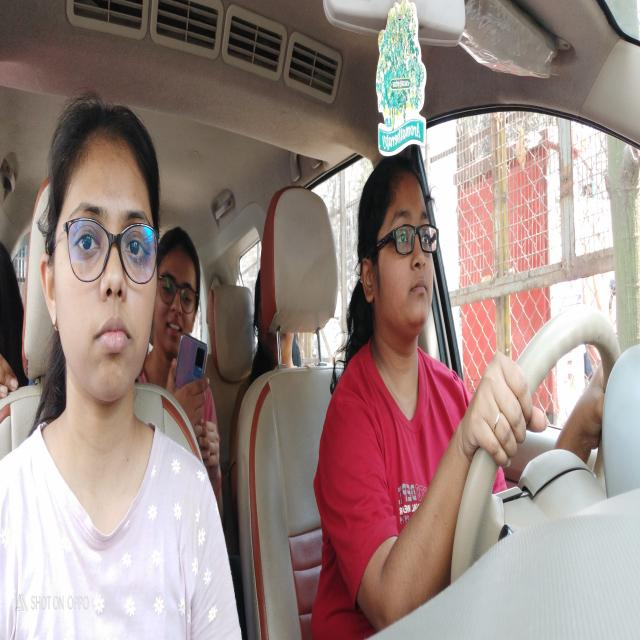person: (36, 89, 165, 432), (354, 138, 452, 371), (157, 213, 205, 374)
